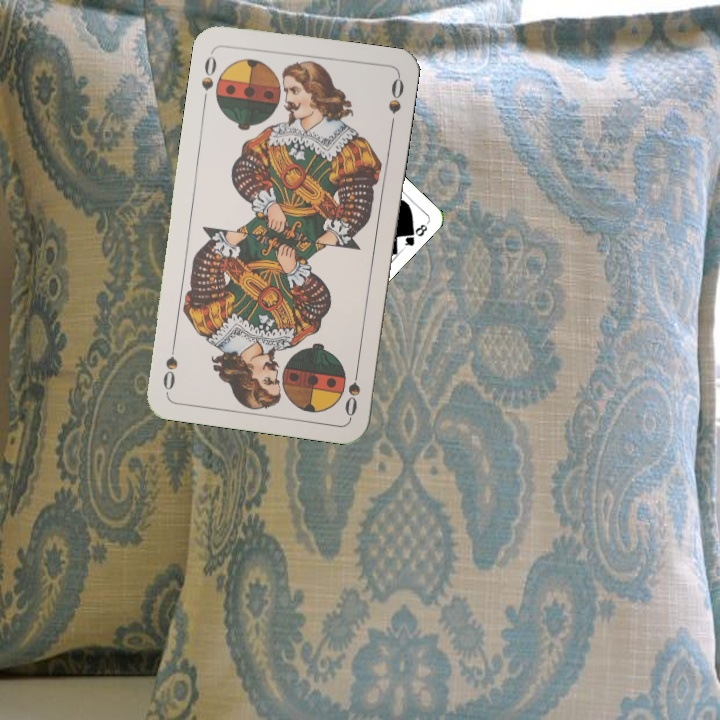SO: (197, 47, 220, 106), (341, 360, 363, 419)
